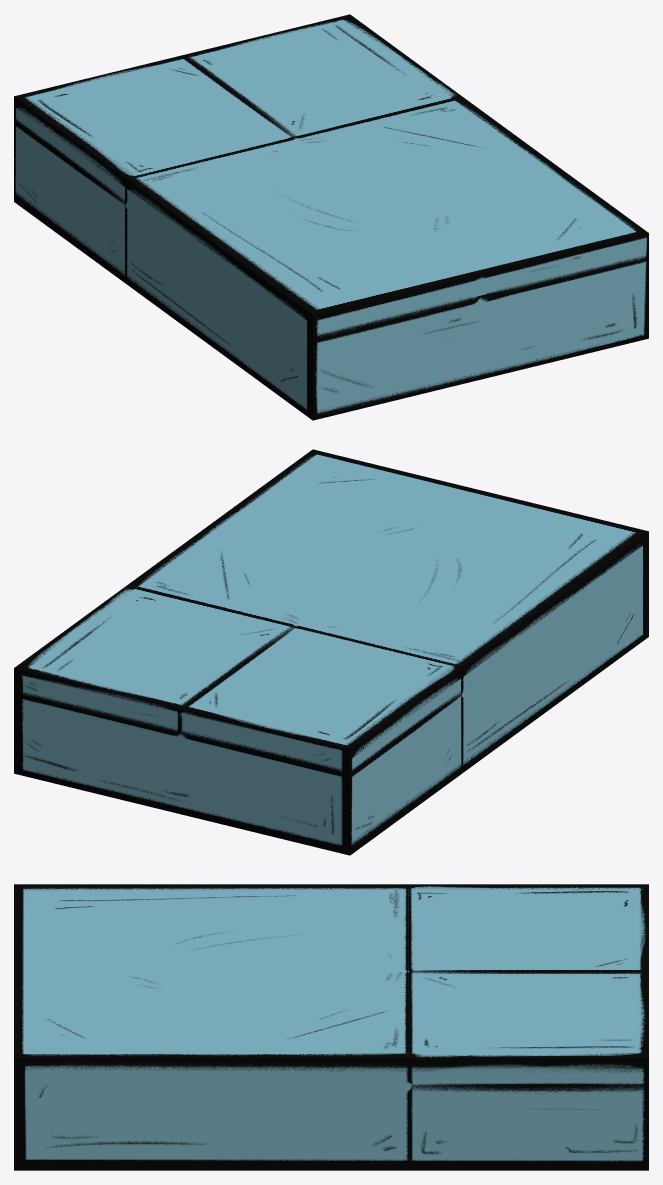
The model's file is mouse.fbx.
3 renders of one model, top to bottom at view 1: azimuth 30°, elevation 25°; view 2: azimuth 150°, elevation 25°; view 3: azimuth 270°, elevation 25°, orthographic. The views are drawn at different scales.
Visible parts, largest first — view 1: Mouse; view 2: Mouse; view 3: Mouse.
Boxes of the visible parts, box(x1,y1,x2,y2) form: Mouse: box(14, 14, 648, 420); Mouse: box(14, 449, 648, 855); Mouse: box(14, 884, 648, 1170).
Size of the model in its own units: 1169 by 351 by 1800.
1 material, 1 textured.
